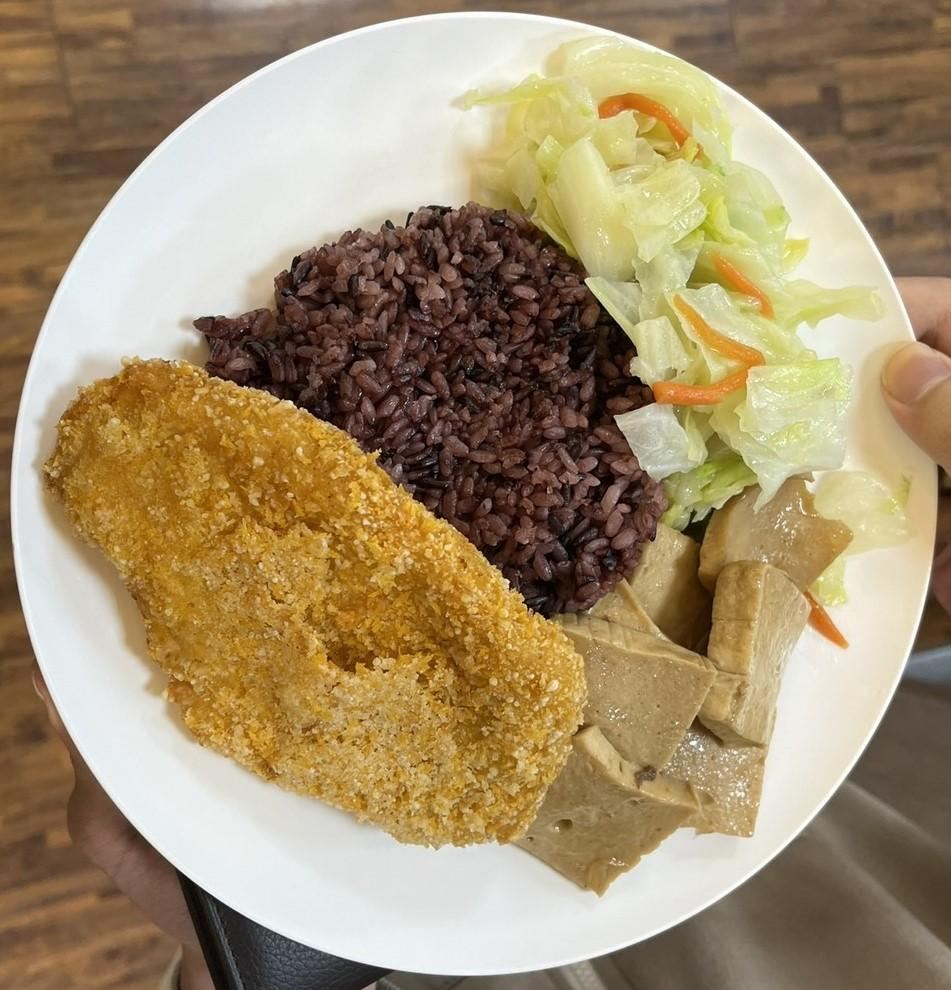big fried chicken leg: (14, 2, 951, 982)
braised fish: (208, 214, 648, 595)
braised fish fillet: (486, 40, 850, 491), (528, 484, 842, 889)
braised pork: (48, 360, 581, 851)
